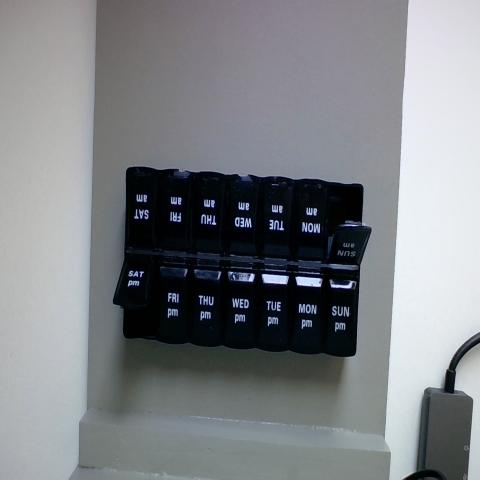FRI-am: (163, 174, 197, 254)
FRI-pm: (162, 269, 191, 342)
MON-am: (301, 181, 334, 259)
MON-pm: (292, 275, 324, 352)
Open: (112, 269, 158, 338), (332, 185, 370, 254)
PillBox: (102, 140, 377, 385)
SAT-am: (130, 172, 161, 252)
SUN-pm: (328, 278, 354, 354)
THU-am: (198, 174, 232, 255)
THU-pm: (190, 264, 224, 347)
TUE-am: (266, 180, 298, 260)
TUE-pm: (258, 272, 286, 348)
WED-am: (233, 177, 264, 257)
WED-pm: (226, 269, 256, 349)
